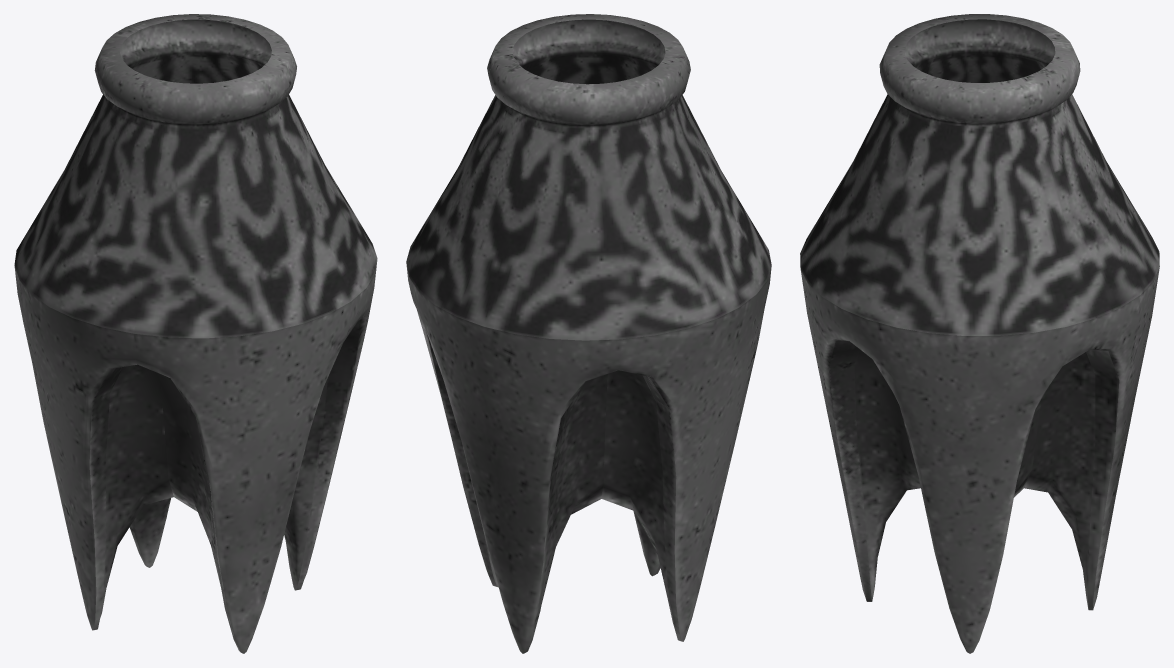
The model's file is wm_witch_king_sword_pommel.fbx.
3 views of the same model, side by side, from view 1: azimuth 30°, elevation 25°; view 2: azimuth 150°, elevation 25°; view 3: azimuth 270°, elevation 25° (orthographic).
Parts seen in each view (by area): view 1: wm_witch_king_sword_pommel; view 2: wm_witch_king_sword_pommel; view 3: wm_witch_king_sword_pommel.
Boxes of the visible parts, x1=… form: wm_witch_king_sword_pommel: x1=14, y1=14, x2=377, y2=653; wm_witch_king_sword_pommel: x1=406, y1=14, x2=771, y2=653; wm_witch_king_sword_pommel: x1=800, y1=14, x2=1159, y2=653.
Bounding box in the file's own units: 0.0475 × 0.0475 × 0.0808.
